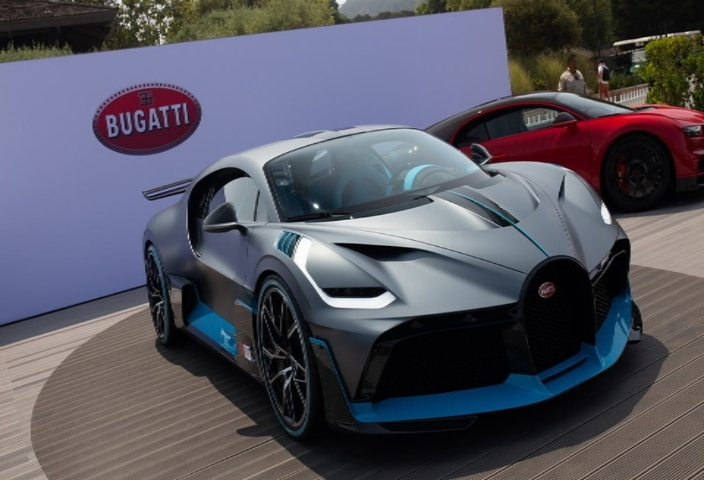car: (127, 118, 655, 444), (384, 63, 704, 227)
